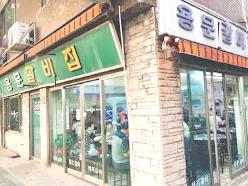galbi: (24, 54, 56, 86), (218, 23, 246, 50)
